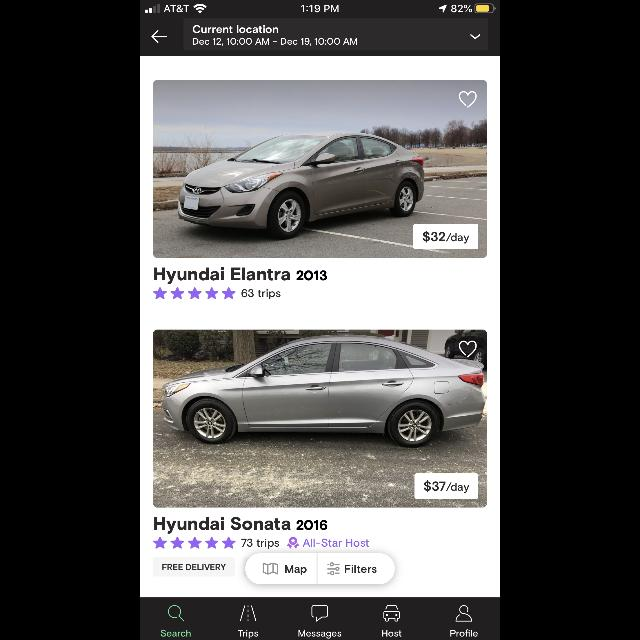icon: (154, 287, 236, 299), (153, 537, 235, 549), (459, 90, 477, 108), (459, 340, 477, 358), (168, 604, 184, 622), (312, 604, 328, 622), (456, 606, 472, 622), (151, 31, 167, 44), (470, 34, 480, 40)
image: (154, 80, 486, 258), (154, 330, 486, 508), (384, 604, 401, 622), (240, 605, 256, 621), (287, 537, 299, 549)
text: (154, 516, 328, 534), (154, 268, 328, 284), (193, 38, 357, 46), (193, 25, 279, 33), (423, 230, 469, 243), (424, 481, 470, 494), (303, 539, 369, 547), (242, 539, 280, 549), (242, 289, 280, 299), (298, 630, 342, 638), (450, 629, 478, 637), (161, 630, 191, 636), (238, 630, 258, 638), (382, 630, 402, 636)
textbutton: (318, 554, 396, 584), (245, 553, 317, 585), (153, 558, 235, 576)
uppertaskbar: (140, 0, 500, 14)
